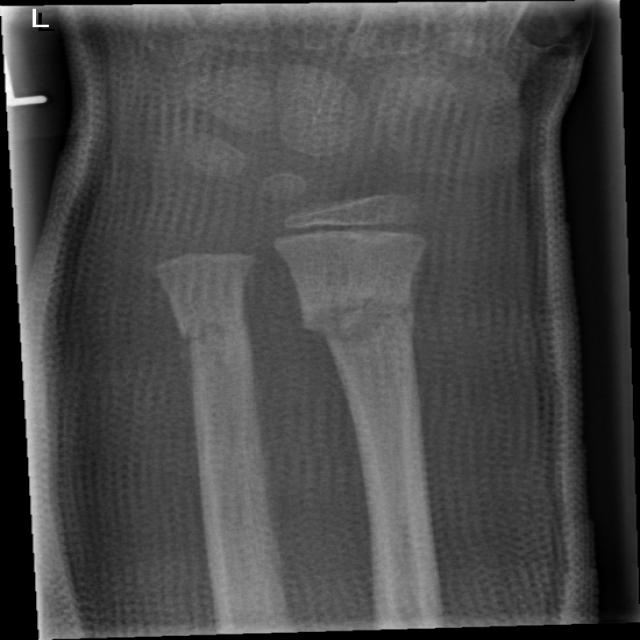radius fracture: (260, 262, 450, 417)
ulna fracture: (134, 292, 286, 451)
